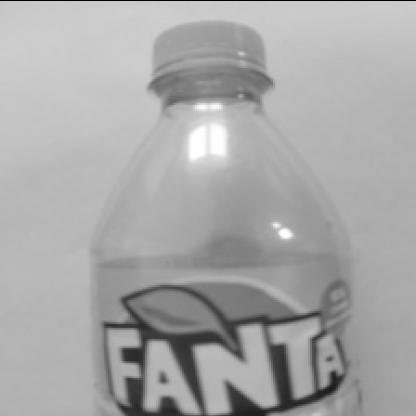plastic_bottles: (91, 11, 354, 416)
